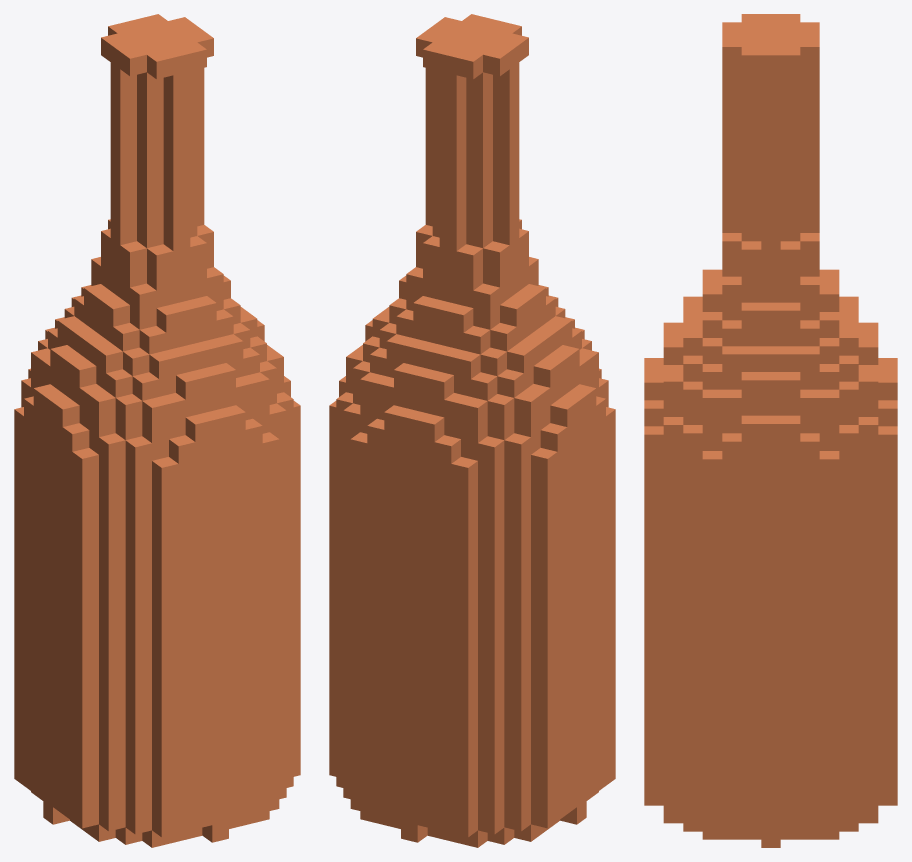
The model's file is FullBottle.fbx.
3 renders of one model, left to right at view 1: azimuth 30°, elevation 25°; view 2: azimuth 150°, elevation 25°; view 3: azimuth 270°, elevation 25°, orthographic.
Parts seen in each view (by area): view 1: FullBottle; view 2: FullBottle; view 3: FullBottle.
Boxes of the visible parts, <box> form: FullBottle: <box>14,14,300,847</box>; FullBottle: <box>329,14,615,847</box>; FullBottle: <box>644,14,897,847</box>.
Bounding box in the file's own units: 7.31 × 24.19 × 7.31.
